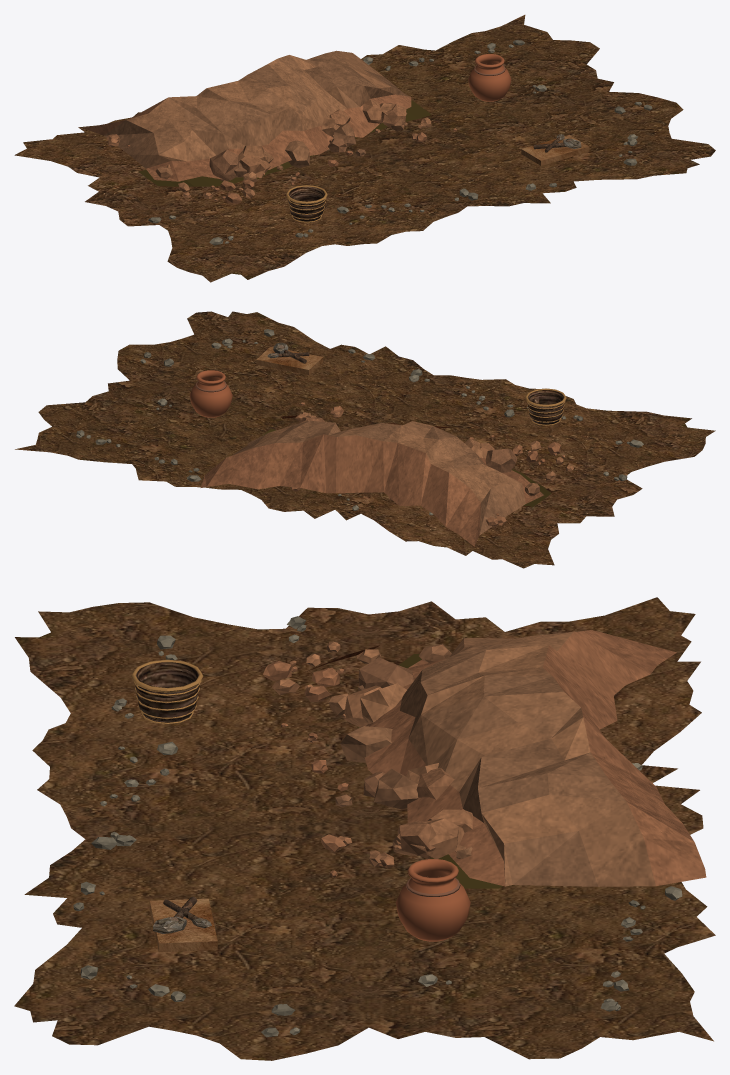
The model's file is claypit.glb.
3 views of the same model, one above another, from view 1: azimuth 30°, elevation 25°; view 2: azimuth 150°, elevation 25°; view 3: azimuth 270°, elevation 25° (orthographic). The views are drawn at different scales.
Visible parts, largest first — view 1: part_0, part_1, part_6, part_3, part_4, part_8, part_5; view 2: part_0, part_1, part_6, part_4, part_8, part_5; view 3: part_0, part_1, part_6, part_4, part_8, part_5.
Boxes of the visible parts, box(x1,y1,x2,y2) form: part_0: box(14, 15, 715, 282); part_1: box(84, 40, 652, 245); part_6: box(468, 54, 511, 101); part_3: box(138, 100, 431, 186); part_4: box(288, 186, 325, 221); part_8: box(521, 134, 589, 165); part_5: box(286, 185, 327, 222); part_0: box(15, 311, 715, 568); part_1: box(76, 329, 643, 546); part_6: box(189, 370, 232, 417); part_4: box(527, 390, 564, 424); part_8: box(256, 346, 323, 374); part_5: box(525, 388, 566, 425); part_0: box(14, 597, 715, 1060); part_1: box(73, 616, 706, 1037); part_6: box(395, 859, 470, 941); part_4: box(135, 662, 199, 722); part_8: box(149, 898, 217, 952); part_5: box(131, 659, 203, 724).
Size of the model in its own units: 5.48 by 0.5349 by 3.51.
Materials: 12 (7 with a texture image).
